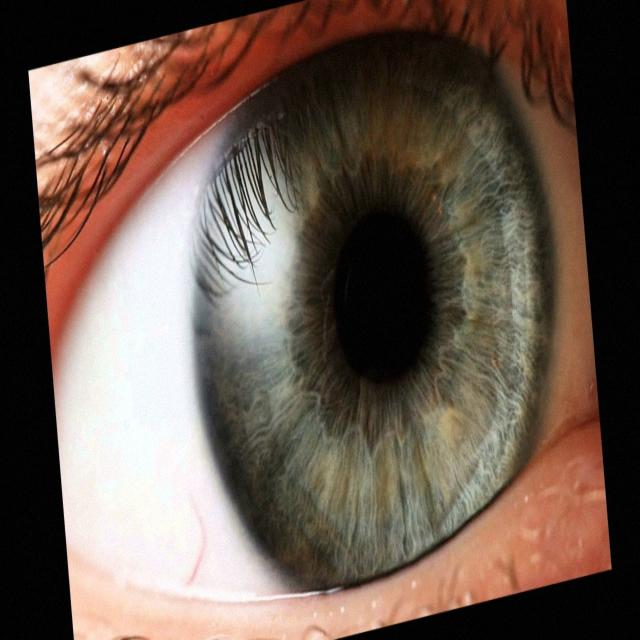Healthy-Eye: (112, 52, 588, 583)
